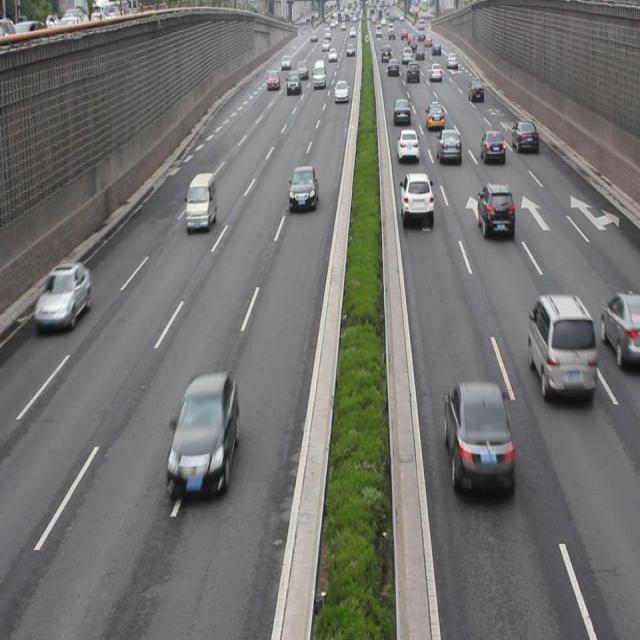car: (166, 373, 238, 497), (443, 379, 513, 494), (526, 293, 596, 405), (34, 260, 92, 330), (600, 289, 640, 366), (478, 182, 516, 239), (399, 172, 433, 222), (288, 166, 318, 212), (434, 126, 461, 164), (480, 128, 506, 166), (512, 119, 538, 154), (397, 128, 419, 162), (424, 100, 444, 130), (392, 97, 409, 125)
truck: (185, 172, 218, 231)
